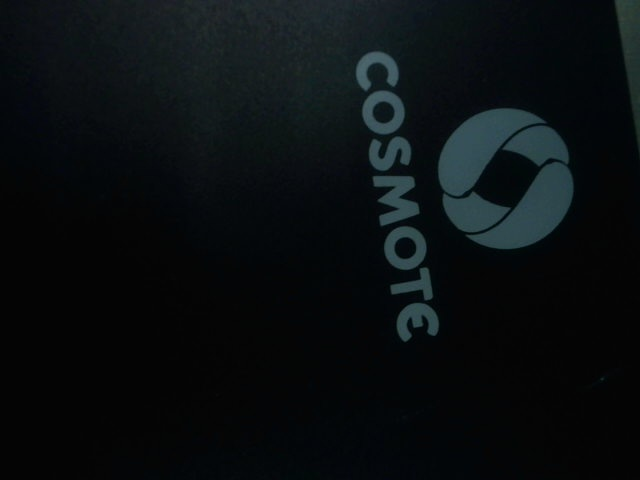AU_COSMOTE: (340, 46, 590, 343)
